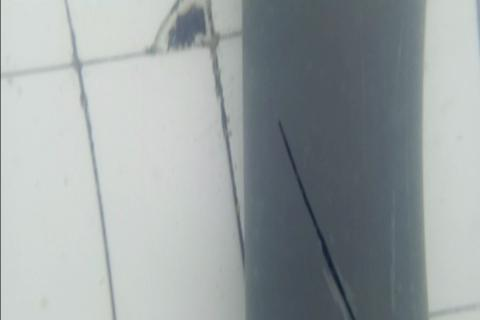keretakan: (276, 115, 357, 320)
